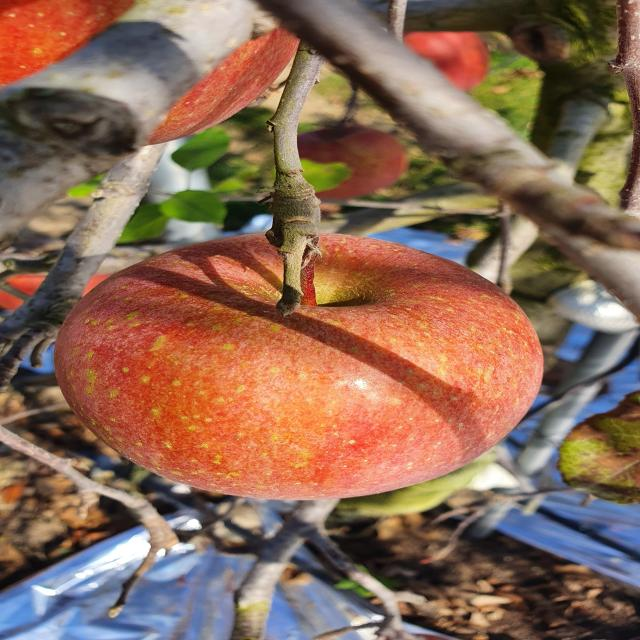fresh: (41, 224, 563, 510)
